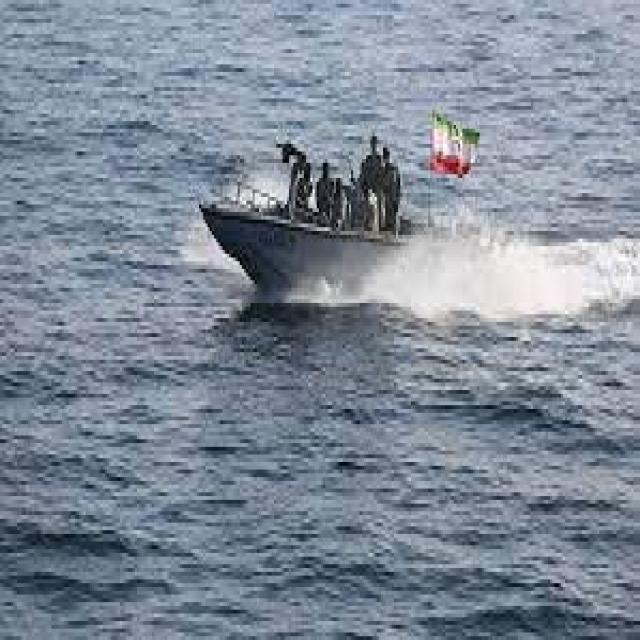houseboat: (198, 118, 564, 308)
